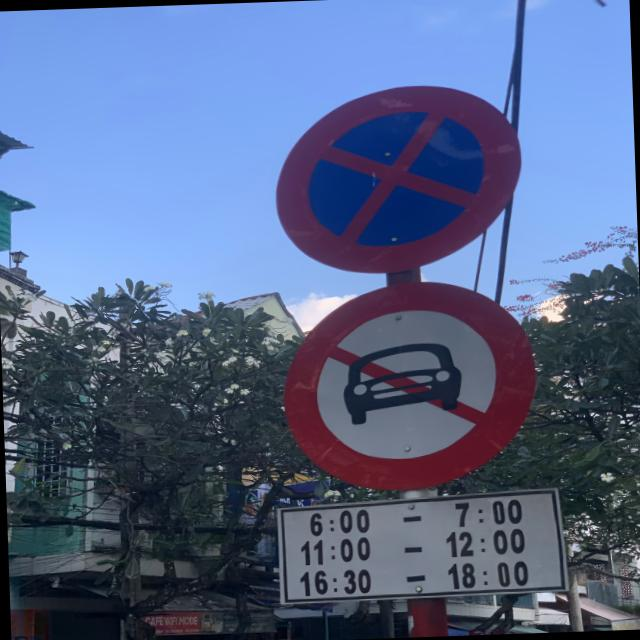Cam_Dung_Va_Dau_Xe: (271, 79, 527, 278)
Cam_O_To: (278, 276, 542, 496)
